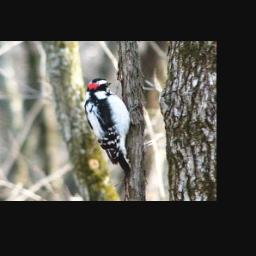Woodpecker: (82, 78, 138, 180)
